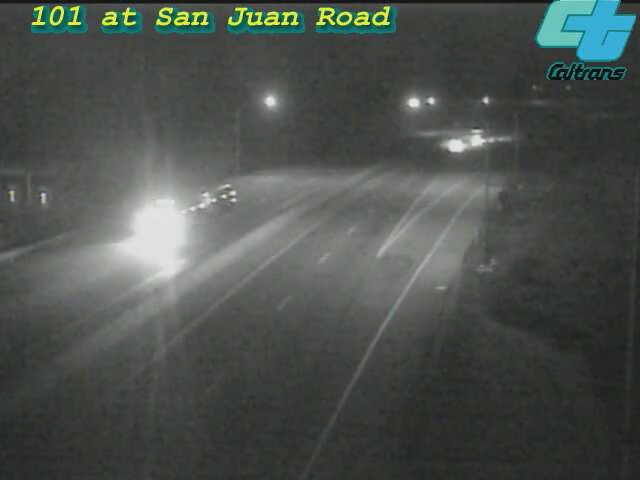vehicle: (120, 181, 200, 261), (456, 111, 506, 161), (434, 119, 484, 169)
